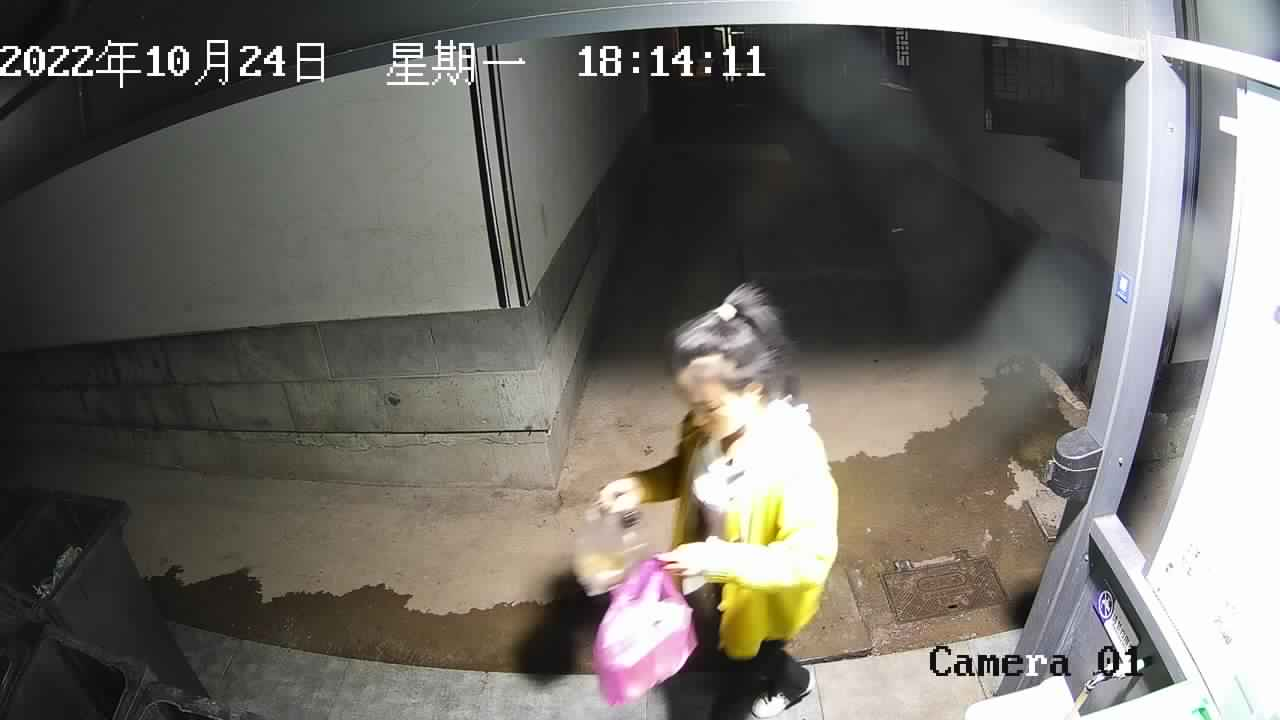garbage-bag: (588, 553, 697, 709), (568, 493, 647, 597)
person: (598, 276, 841, 720)
